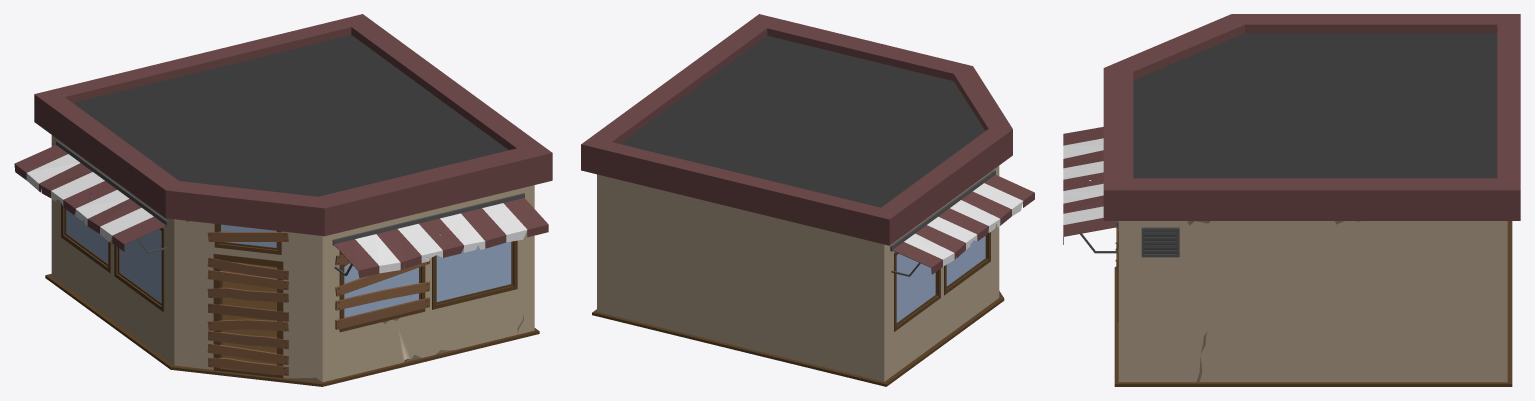
The model's file is House_05.glb.
The picture shows the model from 3 angles, left to right: view 1: azimuth 30°, elevation 25°; view 2: azimuth 150°, elevation 25°; view 3: azimuth 270°, elevation 25°; orthographic projection. The views are drawn at different scales.
Visible parts, largest first — view 1: House_05; view 2: House_05; view 3: House_05.
Part boxes in pixels (x1,y1,x2,y2): House_05: (14, 14, 552, 386); House_05: (581, 14, 1034, 386); House_05: (1063, 14, 1520, 386).
Size of the model in its own units: 7.07 by 3.42 by 7.06.
2 materials, 2 textured.
